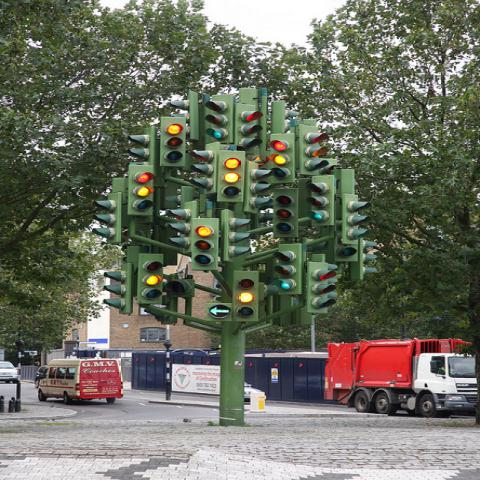bus: (38, 358, 123, 404)
car: (0, 360, 25, 383)
truck: (323, 339, 479, 415)
